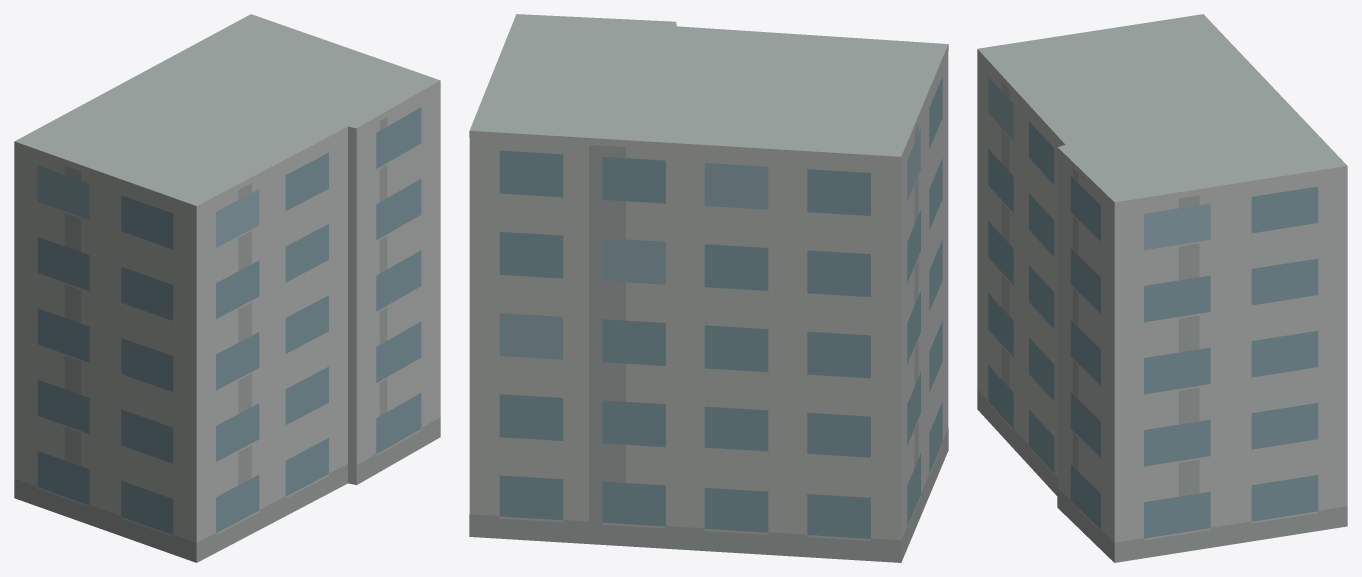
The model's file is survey-upis-32851278.glb.
3 views of the same model, side by side, from view 1: azimuth 30°, elevation 25°; view 2: azimuth 150°, elevation 25°; view 3: azimuth 270°, elevation 25° (orthographic). The views are drawn at different scales.
Parts seen in each view (by area): view 1: survey-upis-32851278.tmp; view 2: survey-upis-32851278.tmp; view 3: survey-upis-32851278.tmp.
Boxes of the visible parts, <box> form: survey-upis-32851278.tmp: <box>14,14,440,562</box>; survey-upis-32851278.tmp: <box>469,14,948,562</box>; survey-upis-32851278.tmp: <box>977,14,1347,562</box>.
Size of the model in its own units: 16.15 by 14.4 by 13.42.
